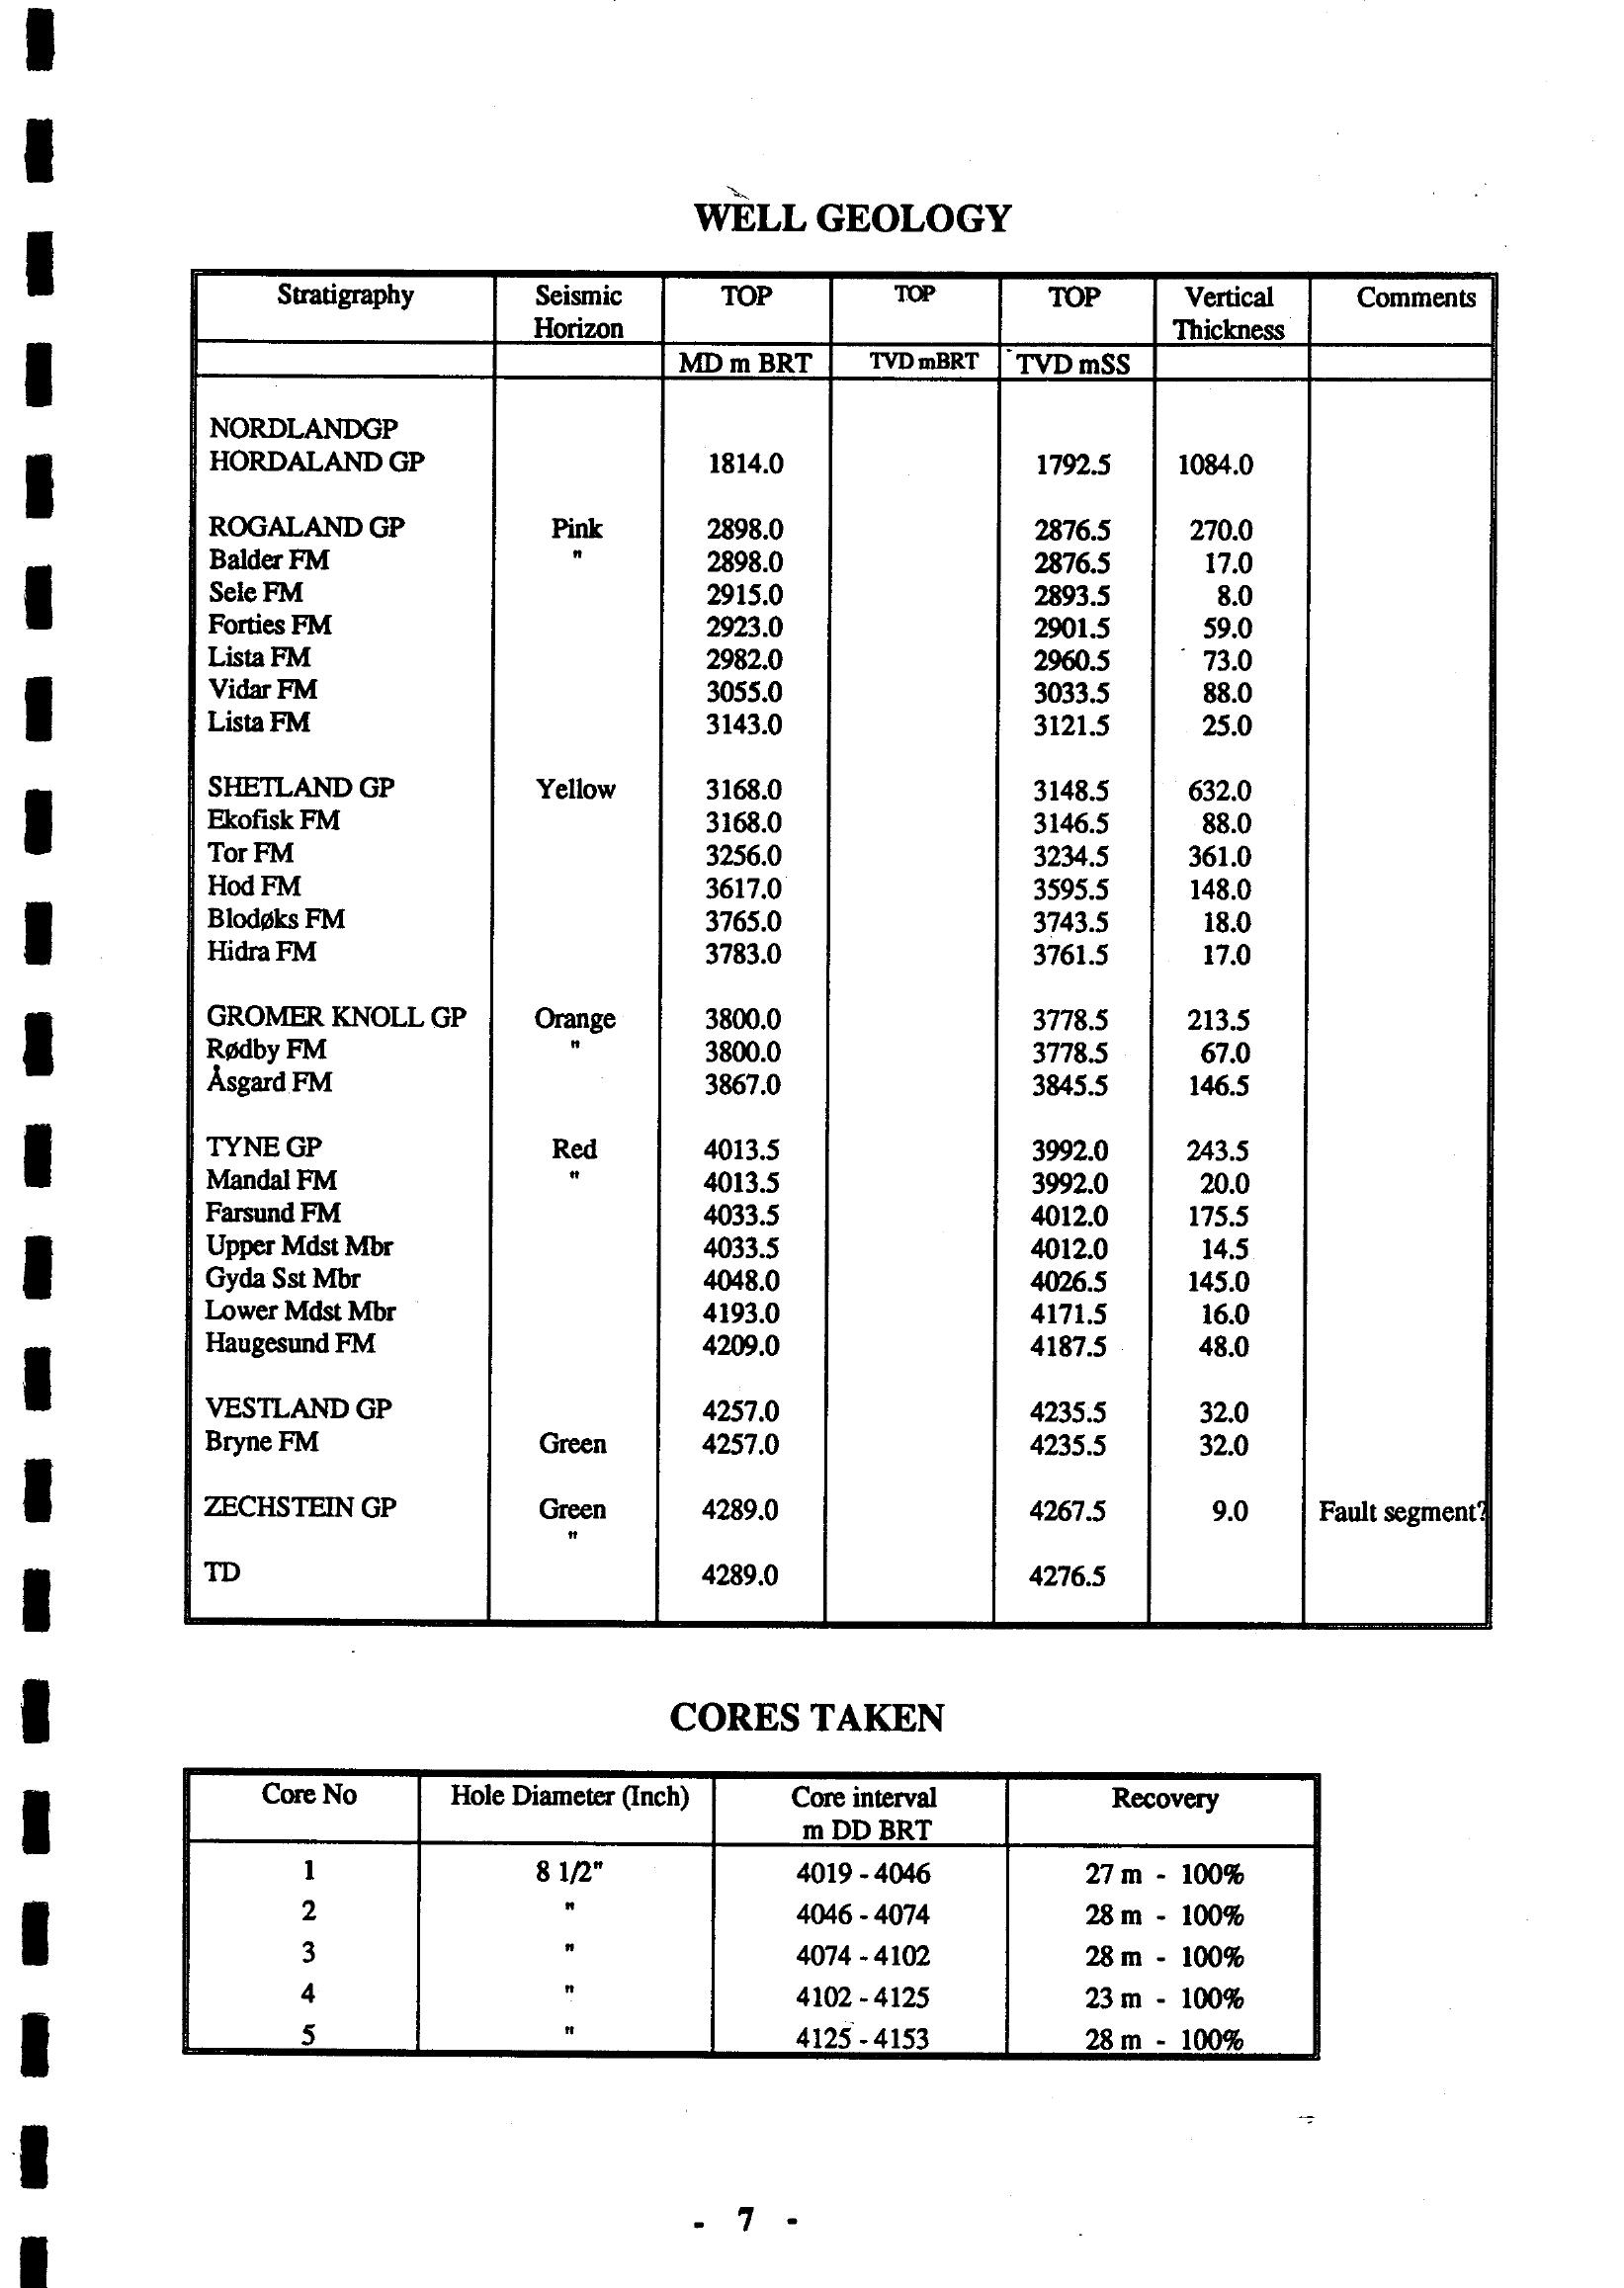table: (148, 179, 1536, 1662), (144, 1685, 1374, 2093)
